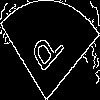P: (25, 24, 66, 81)
